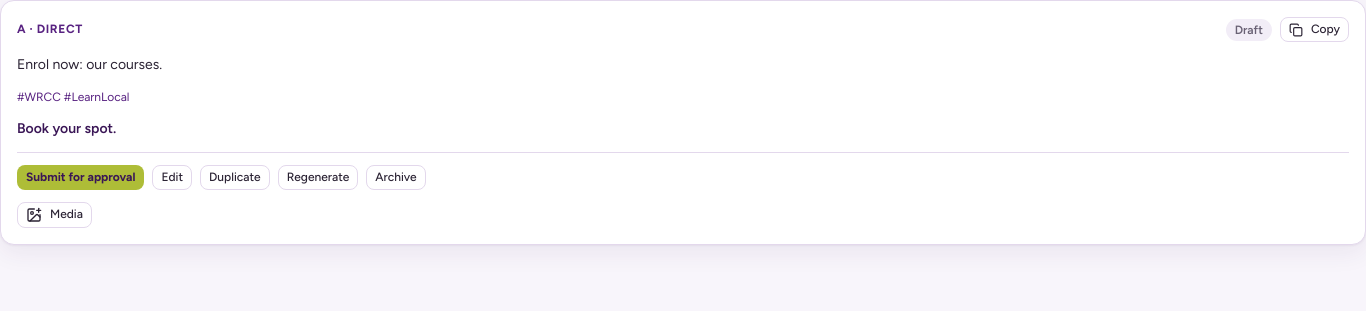
Scenario: VariantCard copy button › reports a failure instead of silently pretending it copied
What coordinates should you click on to do the following:
click the button "Copy"
I would click on:
 (1314, 30)
Its box is [1280,17,1349,42].
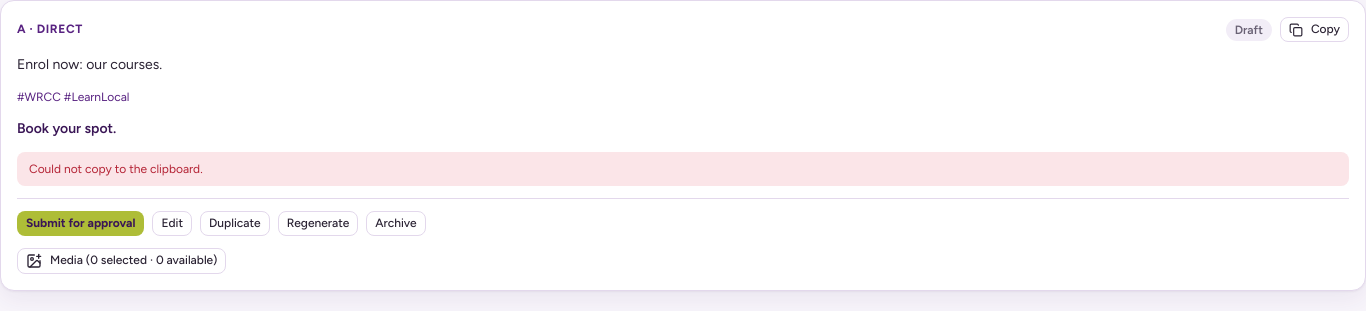
Expected: the message reads "Could not copy to the clipboard.", [29,162,203,176]
